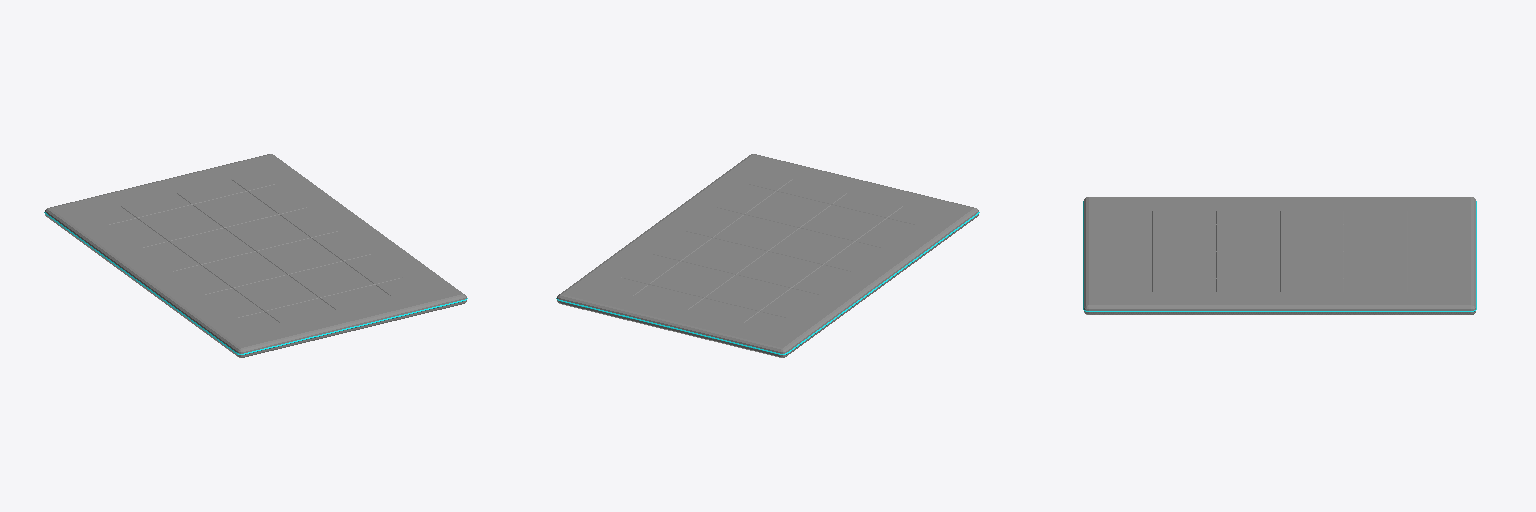
3 views of the same model, side by side, from view 1: azimuth 30°, elevation 25°; view 2: azimuth 150°, elevation 25°; view 3: azimuth 270°, elevation 25° (orthographic).
Visible parts, largest first — view 1: sky.002; view 2: sky.002; view 3: sky.002.
Boxes of the visible parts, x1=… form: sky.002: x1=44, y1=154, x2=467, y2=357; sky.002: x1=556, y1=154, x2=979, y2=357; sky.002: x1=1083, y1=197, x2=1476, y2=314.
Size of the model in its own units: 3.67 by 0.1462 by 5.42.
3 materials, 1 textured.